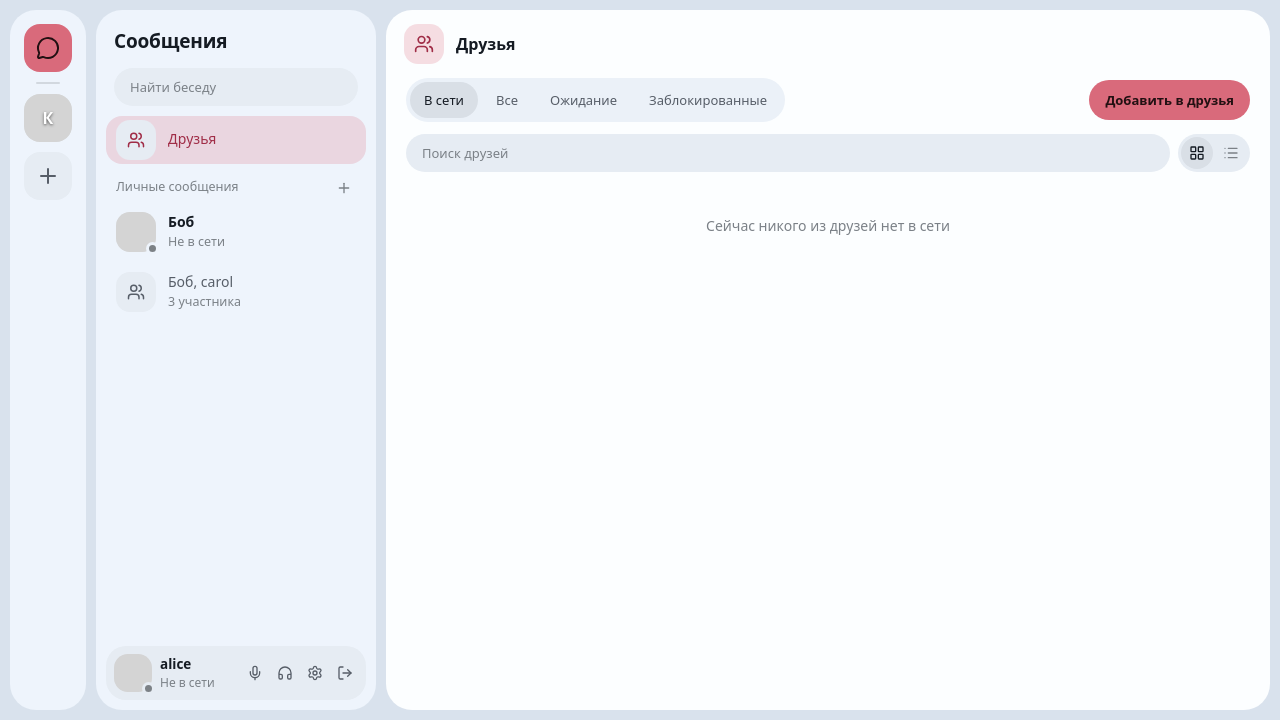
Test: friends page › unblocks people
The width and height of the screenshot is (1280, 720).
What coordinates should you click on to do the following:
click the tab "Заблокированные"
I would click on:
 (708, 100)
Its box is [635,82,781,118].
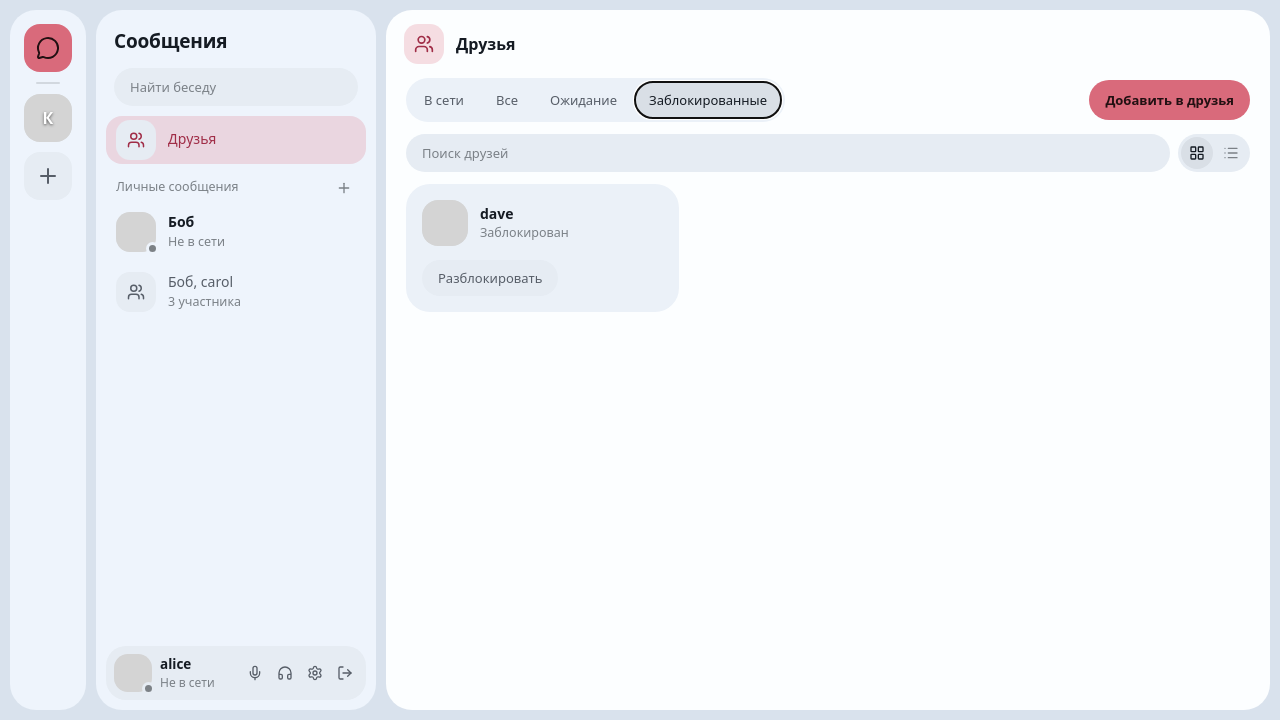
What coordinates should you click on to do the following:
click the button with aria-label "Разблокировать — dave"
I would click on:
 (490, 278)
Its box is [422,260,558,296].
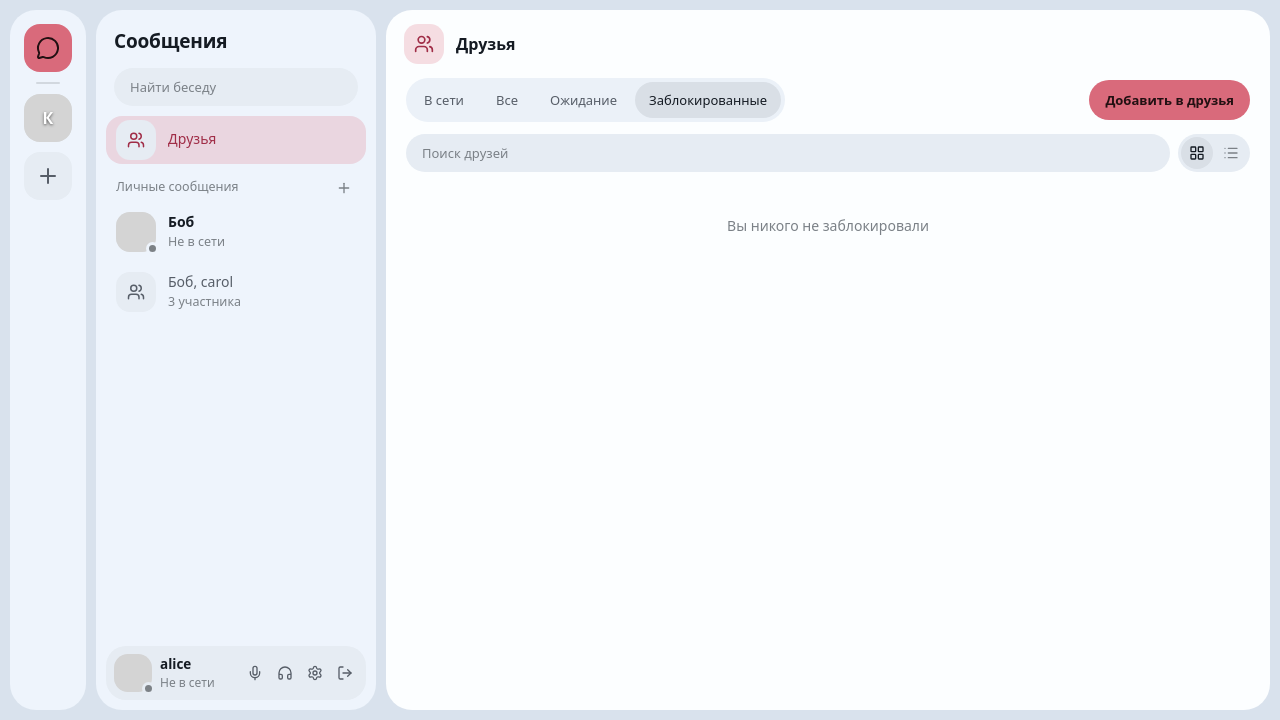
Expected: the text "Вы никого не заблокировали" is shown, [727,216,929,235]
